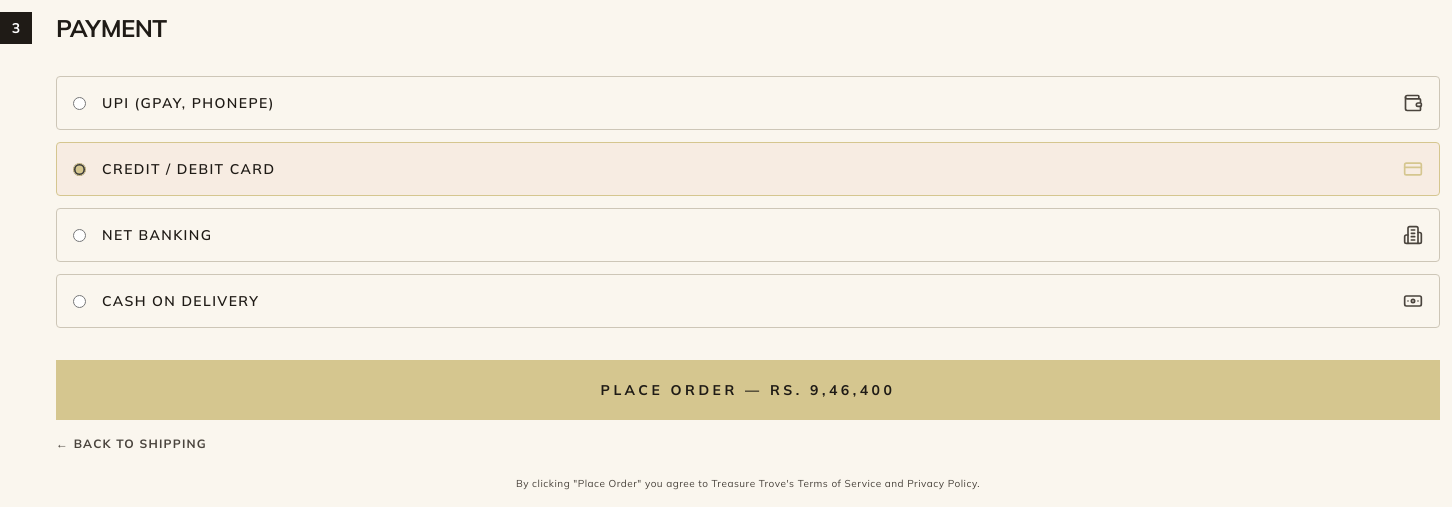
Test: PaymentStep › allows selecting a different INR payment method
Click the radio button with test id "payment-radio-upi". click: (80, 103)
box: left=73, top=96, right=86, bottom=110
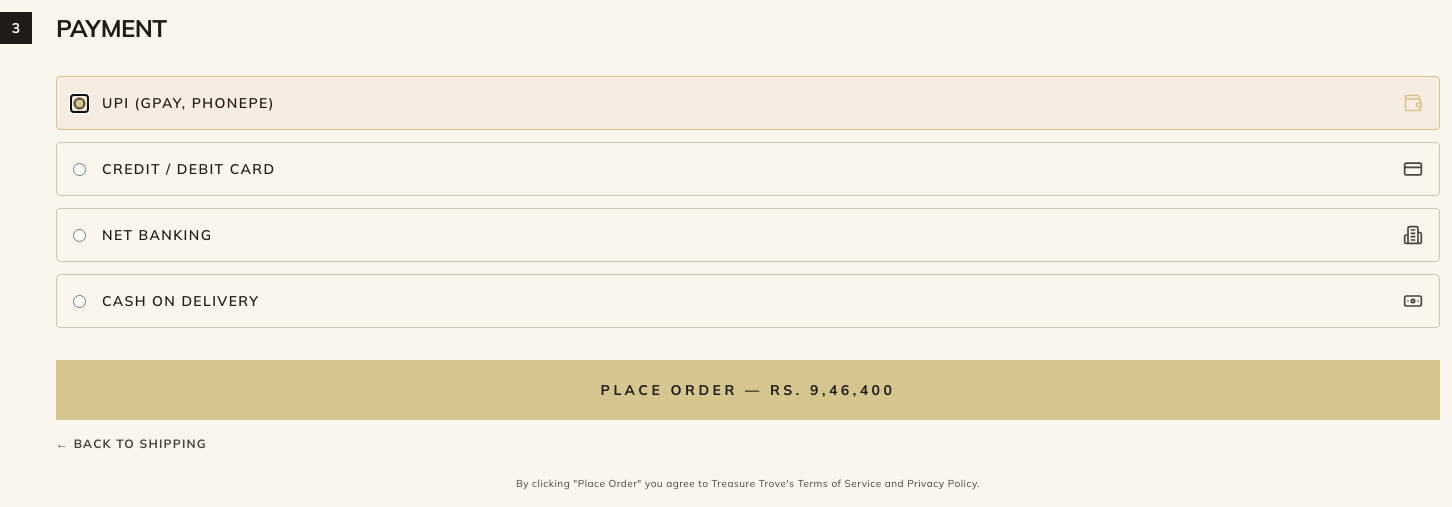
Check: the radio button with test id "payment-radio-upi" is checked, box left=73, top=96, right=86, bottom=110
Check: the radio button with test id "payment-radio-card" is not checked, box left=73, top=162, right=86, bottom=176
